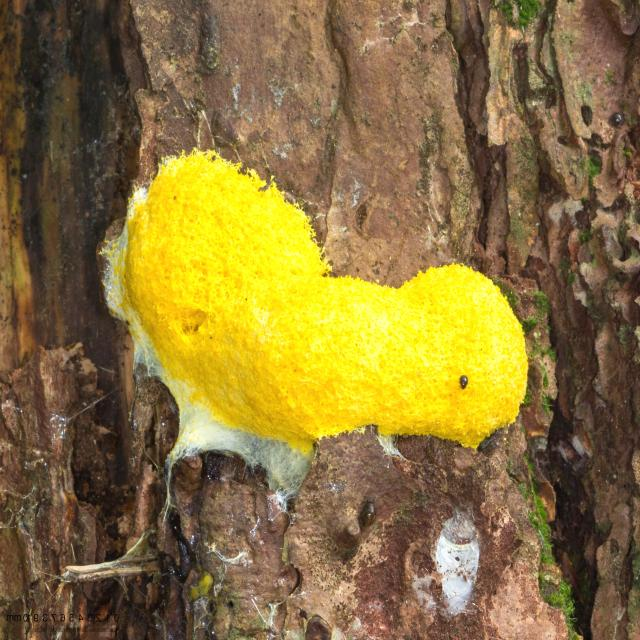Dog_vomit_slime_mold: (80, 95, 563, 510)
